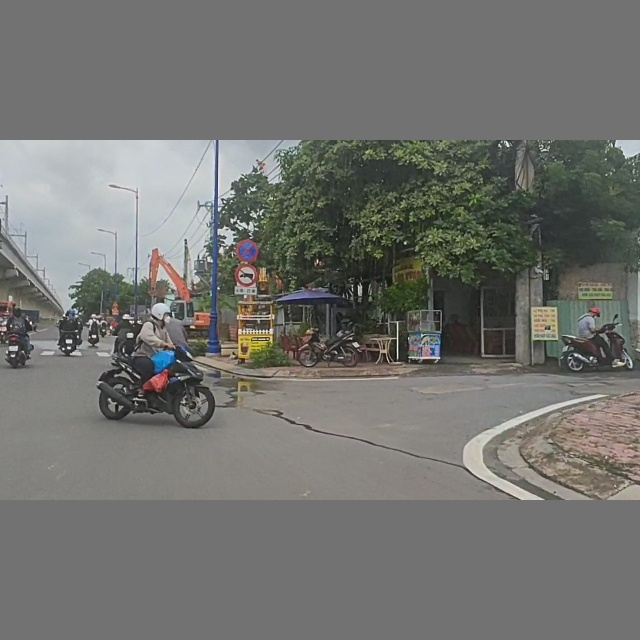B.8a: (235, 265, 259, 287)
P.130: (237, 239, 259, 262)
